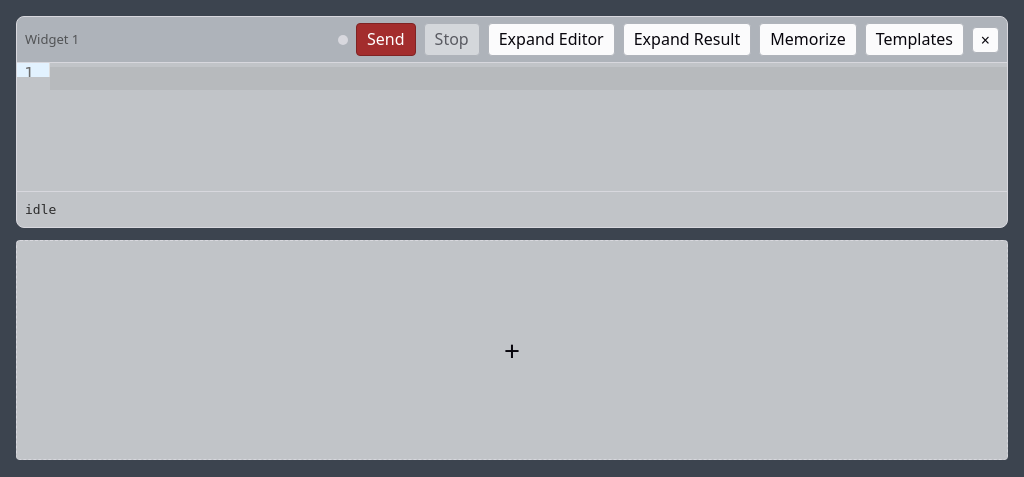
Scenario: Grid › leaves only the add control once every widget is closed
The image size is (1024, 477).
Click the button named "Close widget": point(985, 40) [972,27,999,53]
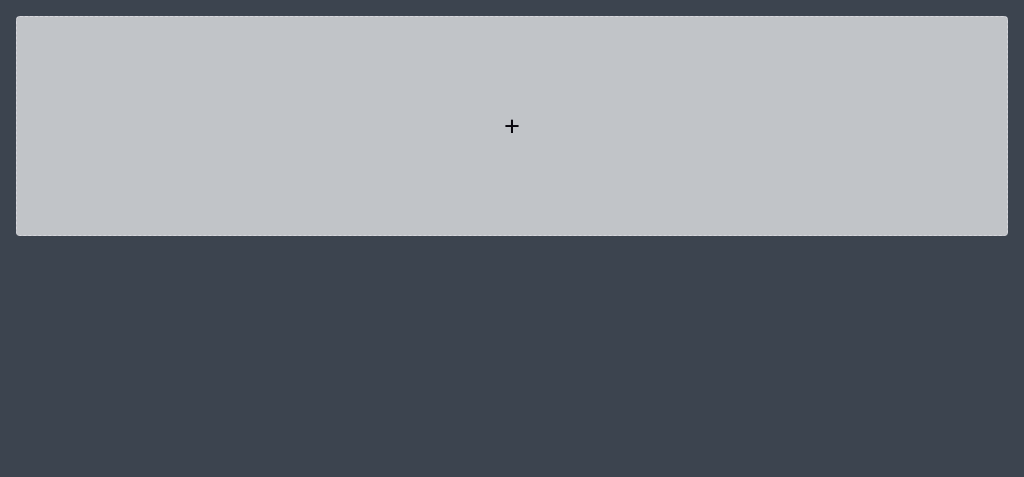
Expected: the button named "Add widget" is shown, [16,16,1008,236]
Expected: the text "Widget 1" is not shown
